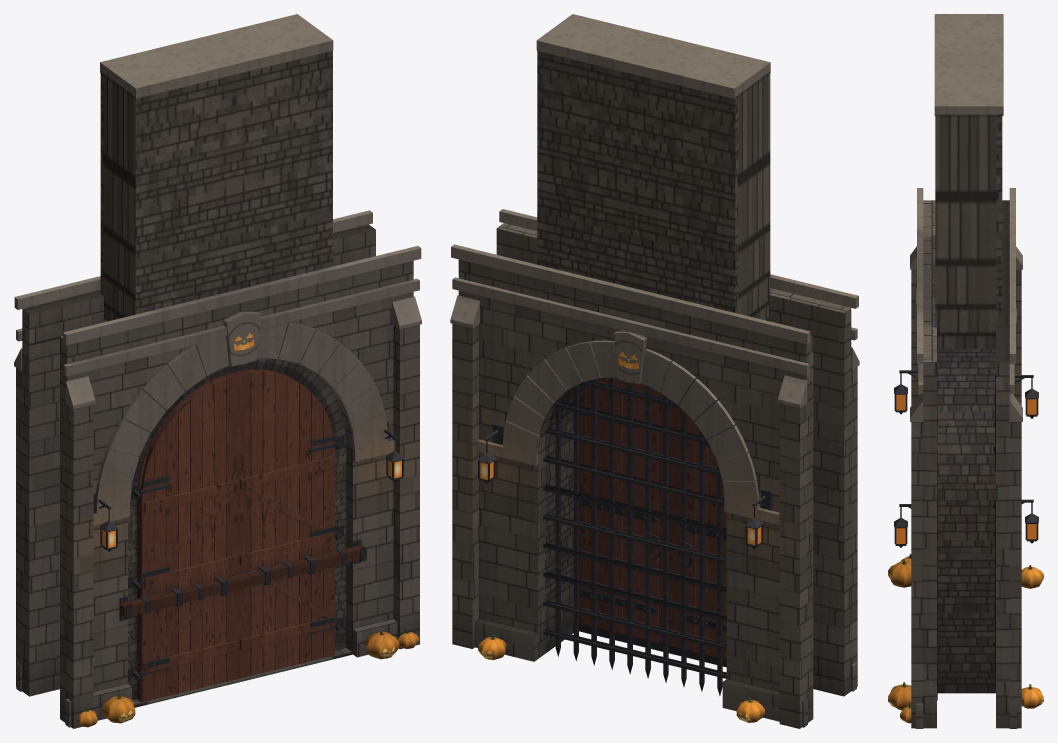
The model's file is grand_gate.glb.
The picture shows the model from 3 angles, left to right: view 1: azimuth 30°, elevation 25°; view 2: azimuth 150°, elevation 25°; view 3: azimuth 270°, elevation 25°; orthographic projection. The views are drawn at different scales.
Visible parts, largest first — view 1: Arch, DoorL, DoorR, Crossbar; view 2: Arch, Portcullis, DoorR, DoorL; view 3: Arch, Portcullis.
Boxes of the visible parts, x1=… form: Arch: x1=14, y1=14, x2=421, y2=728; DoorL: x1=137, y1=372, x2=238, y2=702; DoorR: x1=234, y1=369, x2=338, y2=678; Crossbar: x1=119, y1=544, x2=366, y2=617; Arch: x1=450, y1=14, x2=859, y2=728; Portcullis: x1=543, y1=378, x2=726, y2=695; DoorR: x1=579, y1=378, x2=670, y2=653; DoorL: x1=670, y1=406, x2=726, y2=666; Arch: x1=888, y1=14, x2=1043, y2=728; Portcullis: x1=993, y1=373, x2=995, y2=688.
Bounding box in the file's own units: 12.3 × 20.29 × 4.89.
Materials: 2 (2 with a texture image).
